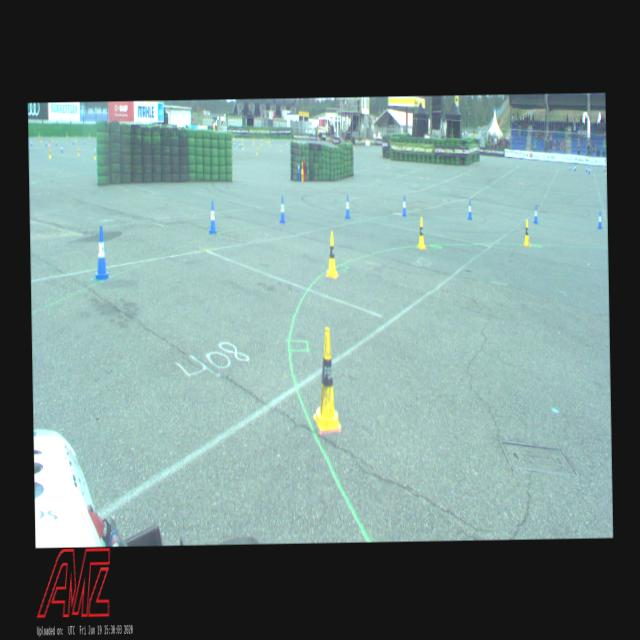blue_cone: (92, 226, 110, 281), (208, 201, 216, 234), (279, 195, 285, 222), (344, 195, 350, 219), (466, 200, 472, 219), (597, 210, 602, 228), (402, 195, 406, 217), (533, 205, 537, 222), (297, 162, 300, 173)
yellow_cone: (312, 328, 341, 430), (325, 232, 339, 278), (416, 216, 426, 248), (523, 219, 530, 246), (300, 162, 304, 174)
